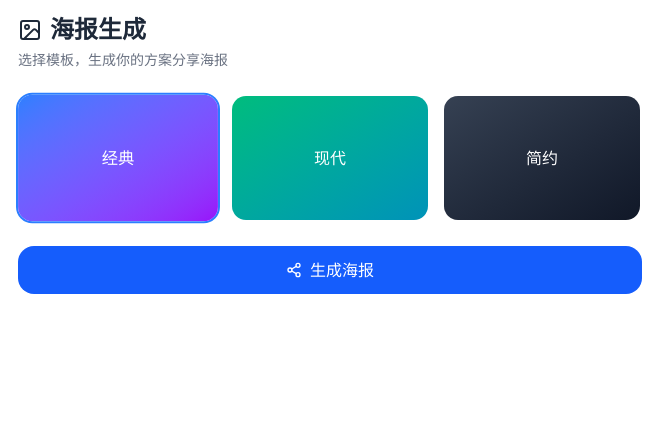
Test: PosterPreviewPage › renders poster generation progress while async job is processing
What coordinates should you click on to do the following:
click the button "生成海报"
I would click on:
 (330, 270)
Its box is [18,246,642,294].
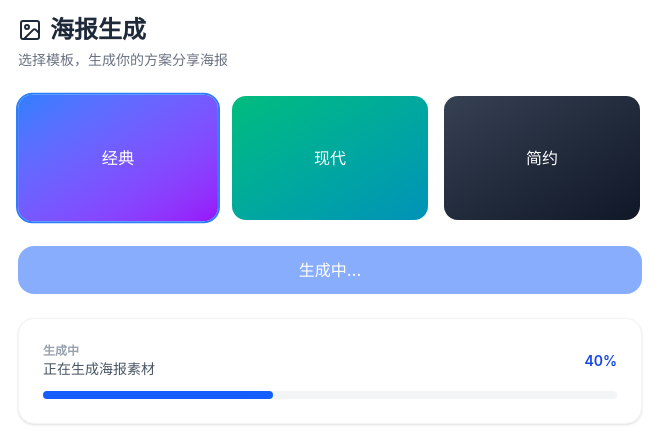
Expected: the text "生成中" is shown, [43,343,79,358]
